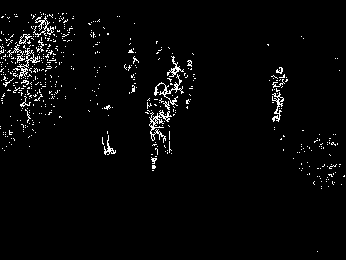person: (146, 81, 176, 169), (267, 64, 298, 131)
